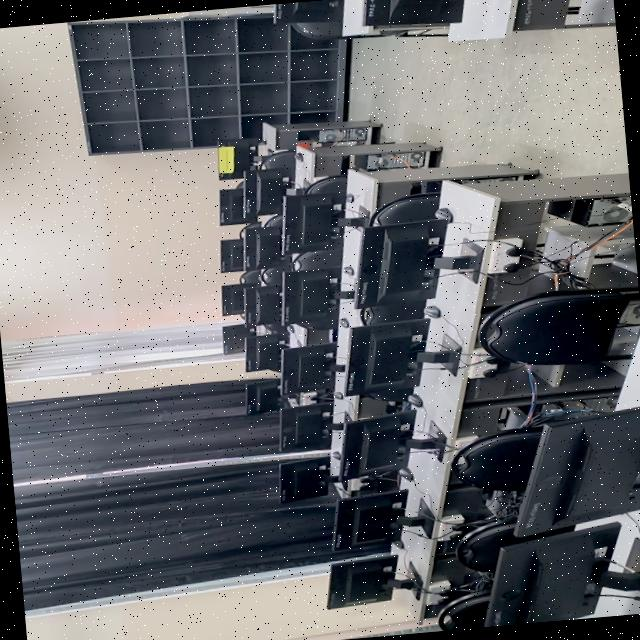Chair: (469, 283, 640, 369), (448, 427, 538, 500), (452, 517, 510, 571), (442, 589, 493, 630), (372, 191, 434, 221), (361, 300, 423, 322), (292, 19, 344, 42), (293, 246, 344, 268), (300, 172, 348, 193), (250, 150, 296, 166), (258, 266, 284, 284), (235, 268, 258, 282)
Cpu: (548, 193, 632, 228), (348, 148, 430, 170), (308, 124, 366, 142)
Monitor: (504, 401, 640, 534), (479, 520, 633, 626), (344, 215, 487, 308), (340, 314, 467, 396), (332, 407, 440, 478), (328, 486, 427, 550), (321, 550, 407, 609), (280, 192, 348, 252), (275, 341, 344, 393), (278, 266, 341, 322), (358, 0, 483, 28), (277, 400, 340, 449), (276, 454, 334, 503), (242, 164, 290, 217), (242, 223, 291, 270), (269, 0, 353, 24), (216, 134, 258, 178), (246, 283, 285, 324), (247, 334, 286, 371), (246, 378, 285, 413), (217, 186, 244, 226), (220, 323, 252, 355), (217, 236, 244, 272), (220, 282, 246, 314)
Mouse: (434, 204, 459, 223), (420, 302, 442, 320), (395, 468, 416, 483), (406, 392, 423, 408), (342, 262, 356, 278), (336, 316, 352, 329)
